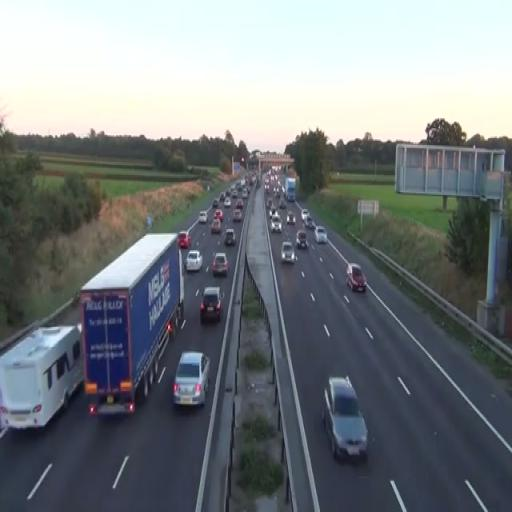Car: (321, 376, 369, 464), (172, 351, 210, 408), (200, 286, 224, 324), (346, 263, 367, 293), (211, 252, 229, 278), (186, 250, 203, 272), (281, 240, 295, 264), (314, 225, 328, 244), (296, 230, 308, 249), (224, 228, 236, 247), (271, 216, 282, 233)
Truck: (80, 232, 185, 418), (0, 323, 84, 434), (321, 375, 369, 463), (285, 176, 296, 202)
